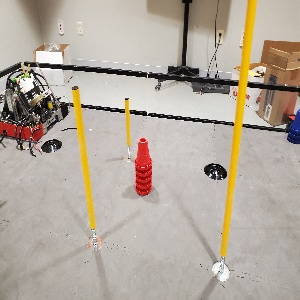Blue_3: (279, 106, 299, 149)
Red_5: (132, 135, 155, 199)
